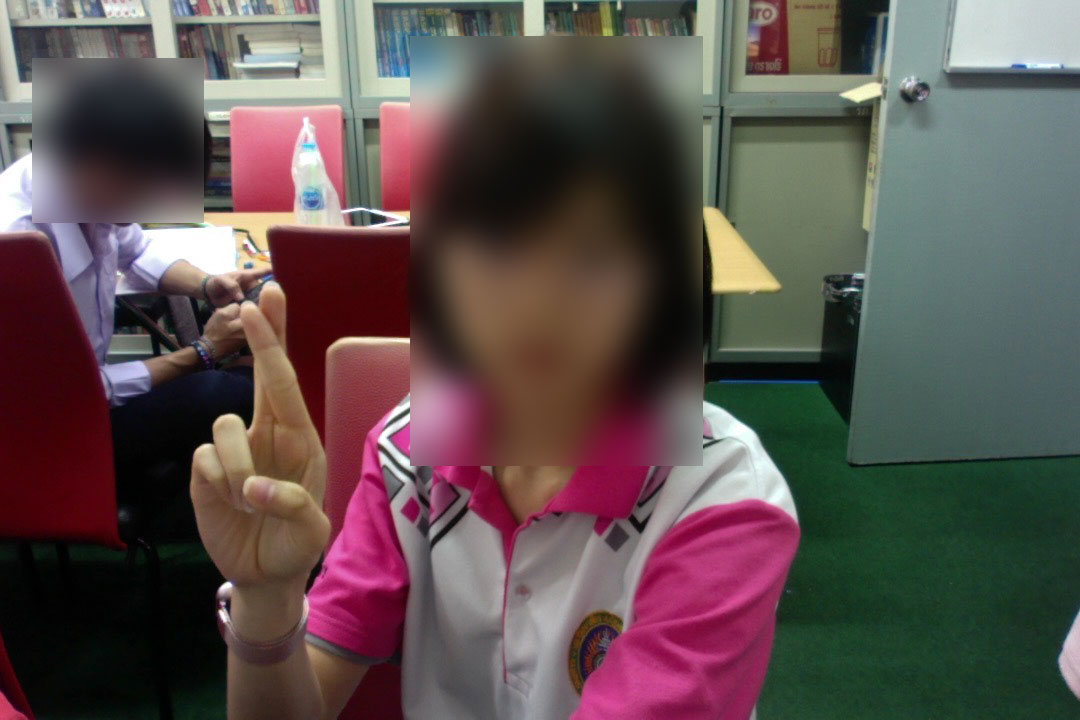rao: (176, 279, 340, 595)
